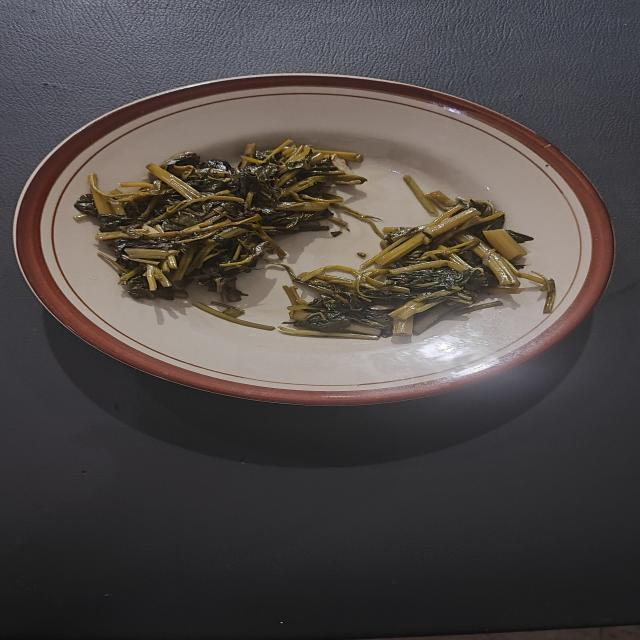tumis_kangkung: (75, 140, 366, 301), (283, 176, 555, 337)
